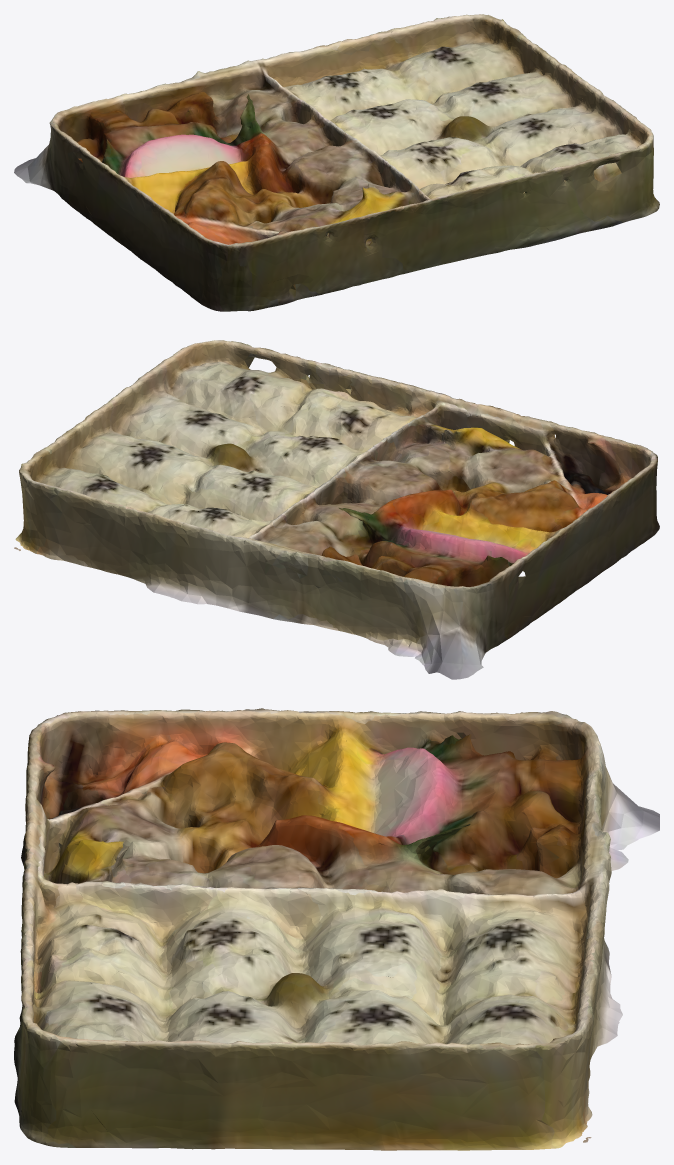
File: manti.glb
The picture shows the model from 3 angles, top to bottom: view 1: azimuth 30°, elevation 25°; view 2: azimuth 150°, elevation 25°; view 3: azimuth 270°, elevation 25°; orthographic projection. The views are drawn at different scales.
Parts seen in each view (by area): view 1: mesh; view 2: mesh; view 3: mesh.
Boxes of the visible parts, bbox=[...] form: mesh: bbox=[14, 14, 659, 311]; mesh: bbox=[14, 340, 659, 679]; mesh: bbox=[14, 708, 659, 1150].
Size of the model in its own units: 0.26 by 0.0411 by 0.2061.
Materials: 1 (1 with a texture image).
